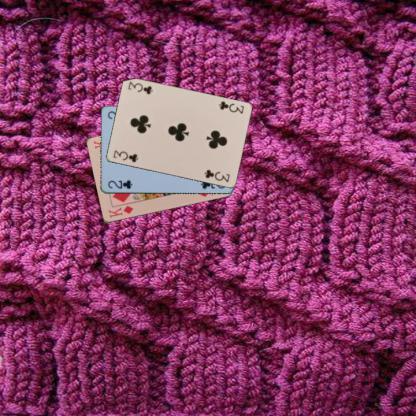2c: (105, 178, 133, 190)
3c: (110, 148, 140, 164), (216, 99, 245, 115)
Kd: (106, 203, 134, 219)
